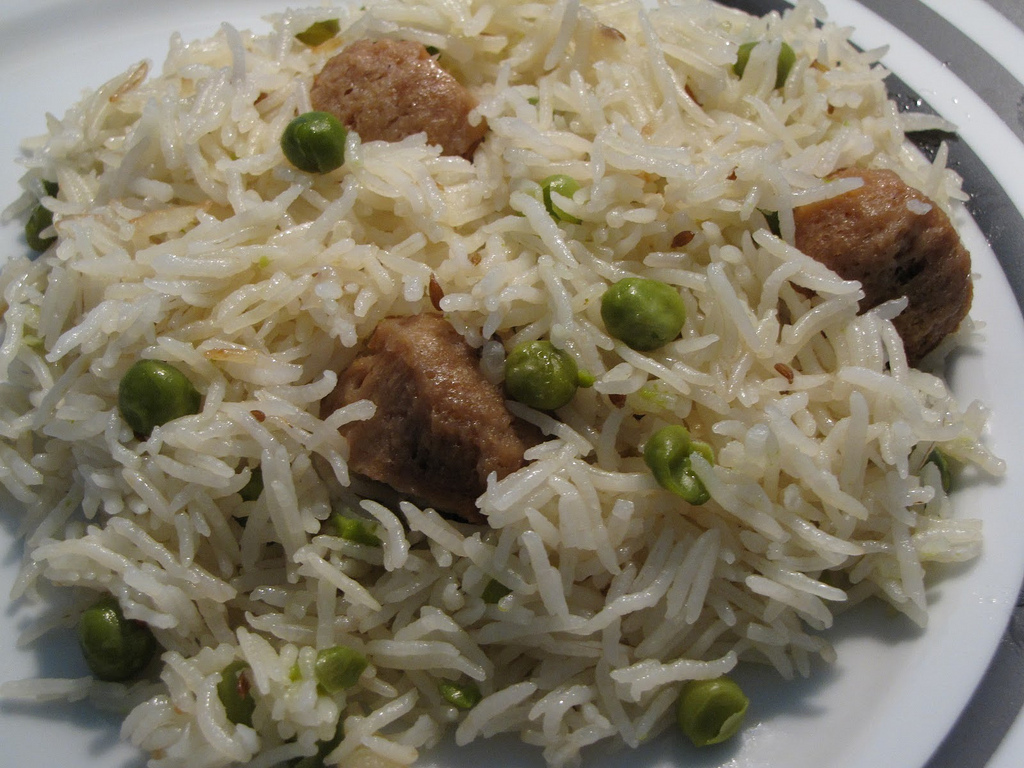boiled peas: (278, 107, 362, 196), (675, 675, 758, 753), (110, 357, 195, 431), (82, 599, 154, 685), (608, 275, 689, 346), (507, 341, 576, 404)
meatballs: (310, 310, 535, 518), (794, 174, 964, 346), (316, 33, 474, 148)
plain rice: (15, 32, 1003, 760)
